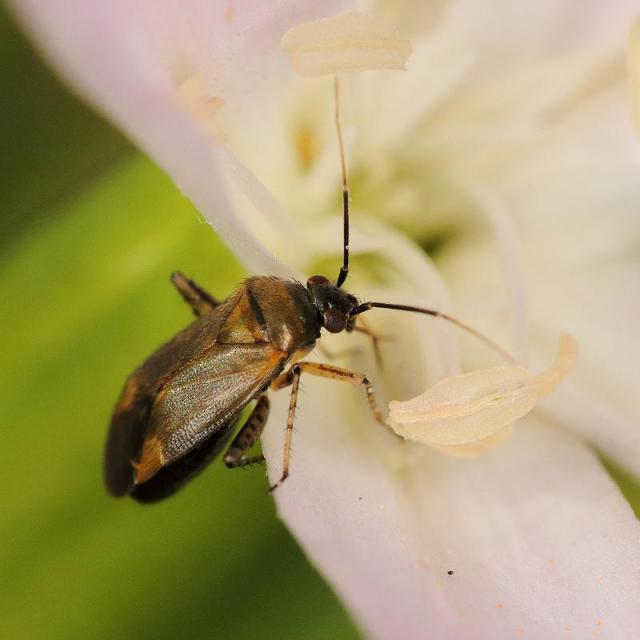Miridae-Adult-: (84, 74, 488, 512)
